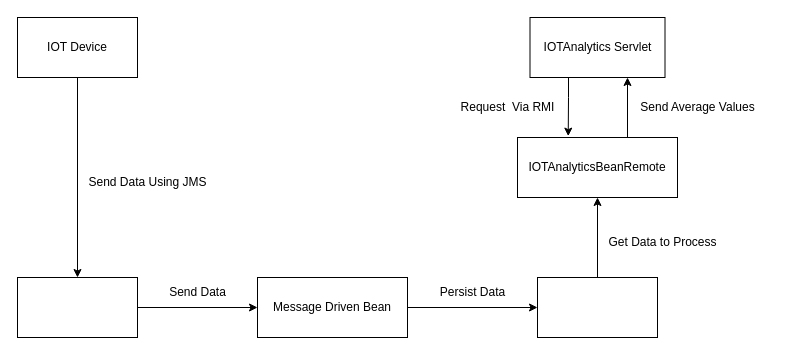
The diagram is 785 pixels wide and 355 high, and some of its shapes have lost their labels. Here are the shapes that lost their labels. From the top down, the centre of each, then its label:
At point (77, 307): "Message Queue".
At point (597, 307): "Message Data".
